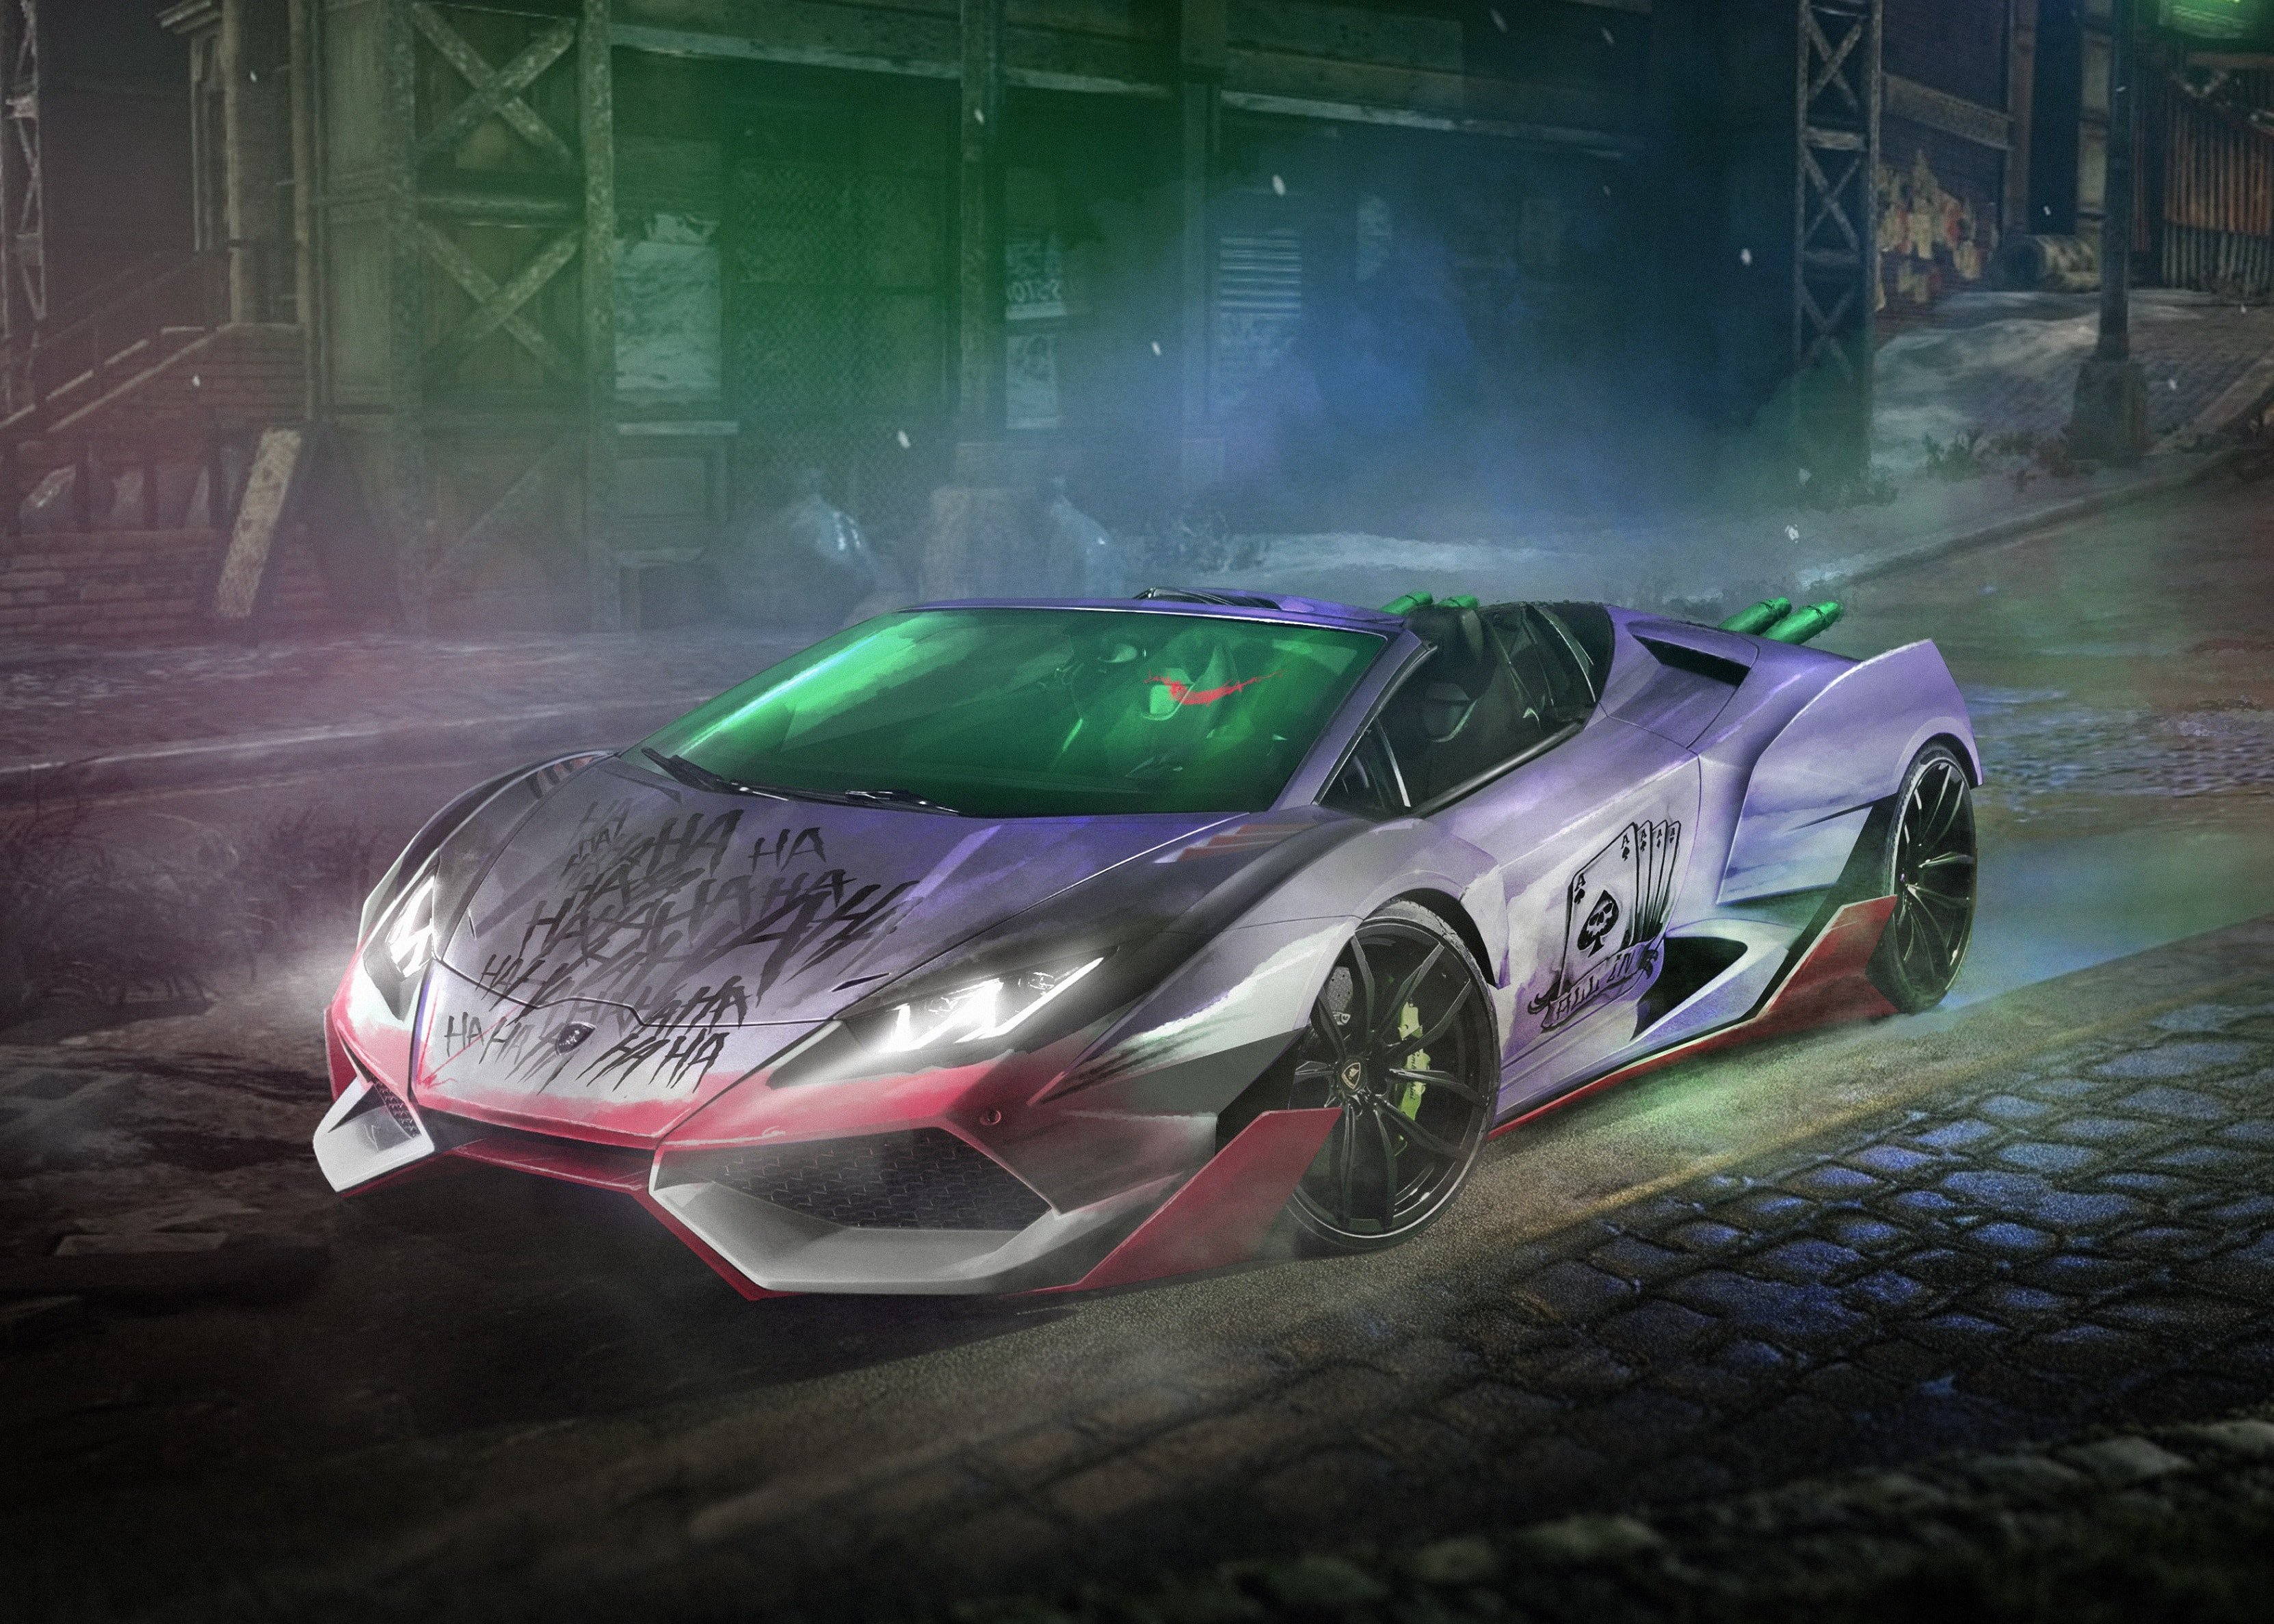car: (262, 559, 2003, 1222)
